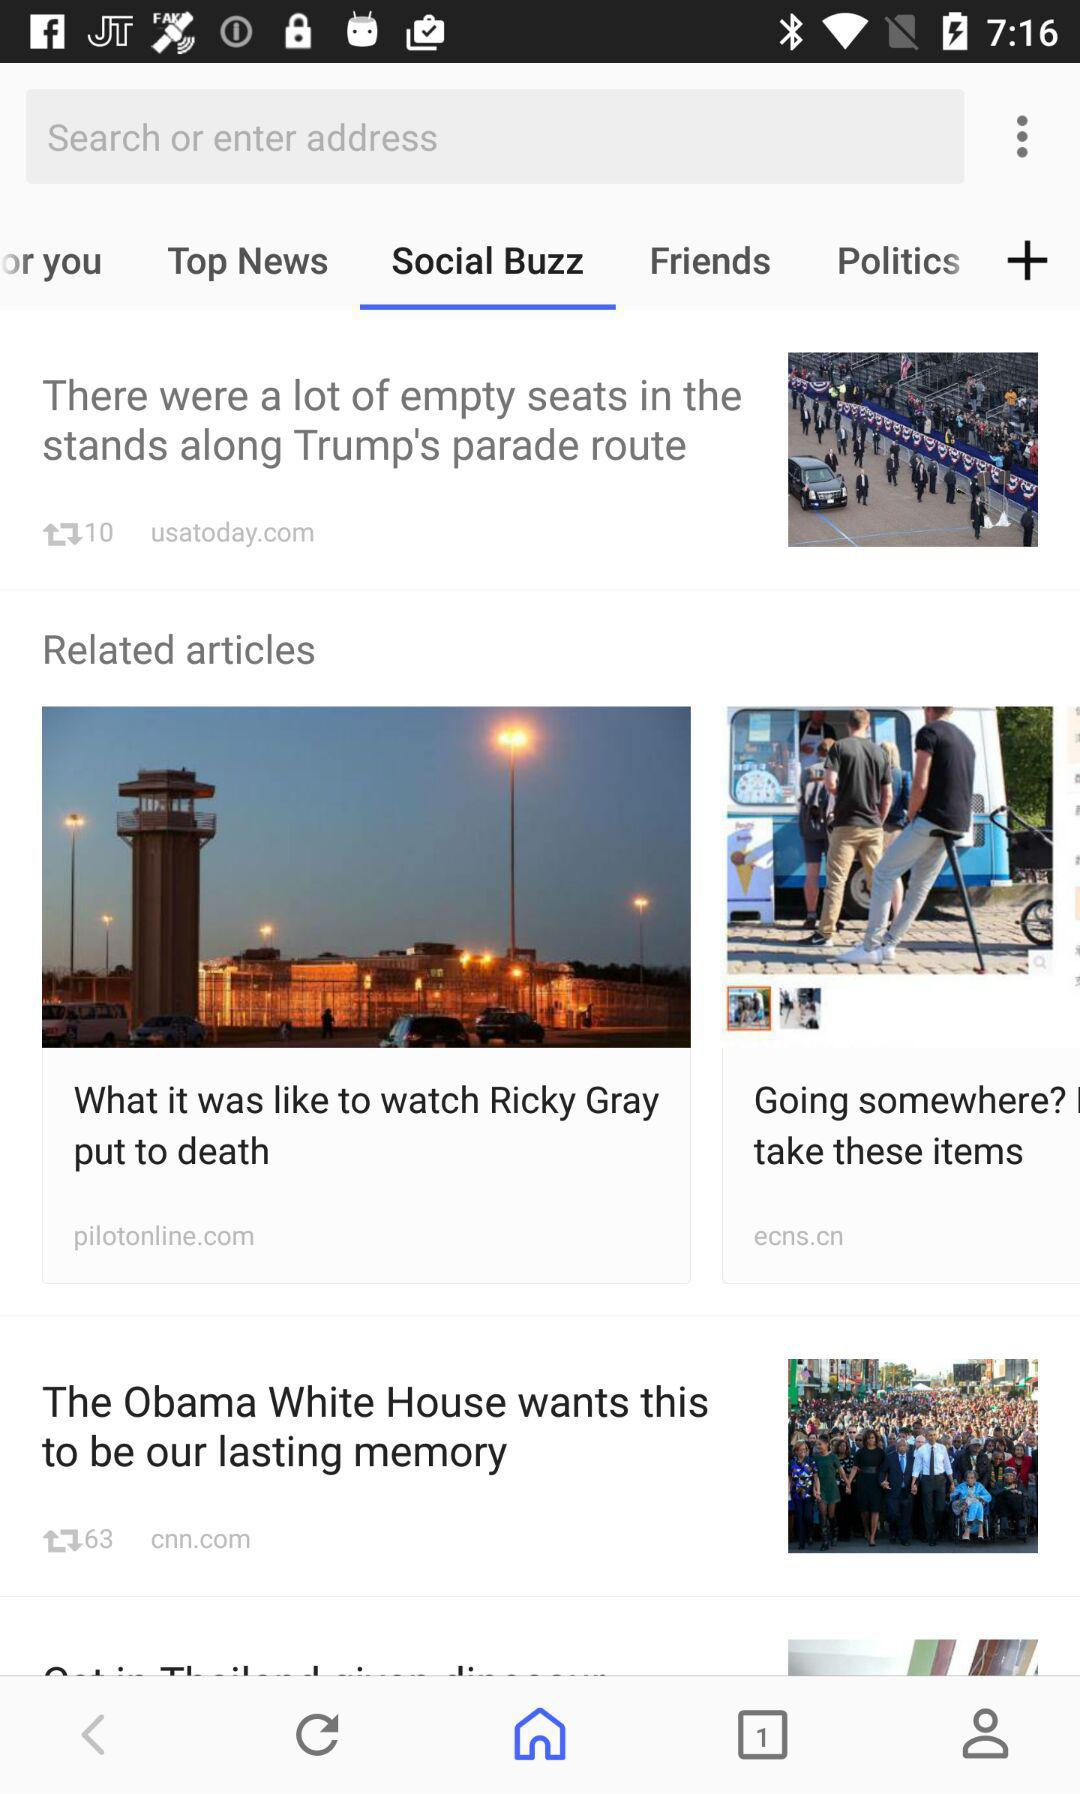Bottom_Navigation: (1, 1676, 1080, 1794)
EditText: (26, 88, 965, 186)
Icon: (514, 1707, 568, 1761), (962, 1707, 1010, 1759), (296, 1713, 340, 1757), (1007, 240, 1048, 282), (81, 1713, 106, 1756), (44, 523, 85, 548), (44, 1527, 85, 1553), (1016, 115, 1029, 160)
Image: (44, 706, 692, 1049), (726, 709, 1054, 1047), (788, 352, 1039, 548), (788, 1360, 1039, 1554), (788, 1639, 1038, 1675), (738, 1709, 789, 1759)
Text: (44, 379, 742, 472), (41, 1384, 708, 1477), (74, 1084, 661, 1174), (753, 1084, 1067, 1167), (49, 123, 438, 152), (46, 634, 316, 666), (168, 247, 328, 283), (393, 247, 584, 276), (76, 1224, 255, 1253), (152, 522, 315, 548), (839, 246, 960, 276), (651, 246, 771, 276), (1, 254, 102, 284), (152, 1533, 251, 1551), (755, 1229, 844, 1247), (85, 1527, 114, 1551), (87, 523, 115, 545)
UpperTaskBar: (1, 1, 1080, 64)
